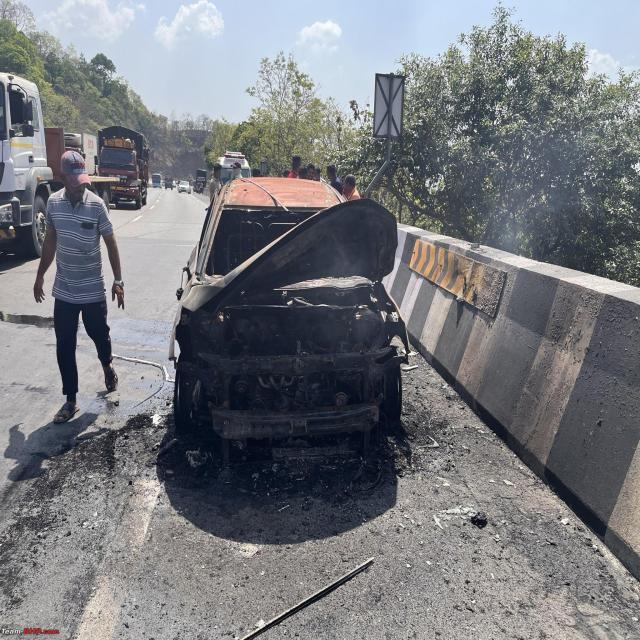accident: (170, 178, 409, 455)
truck: (95, 127, 150, 208)
